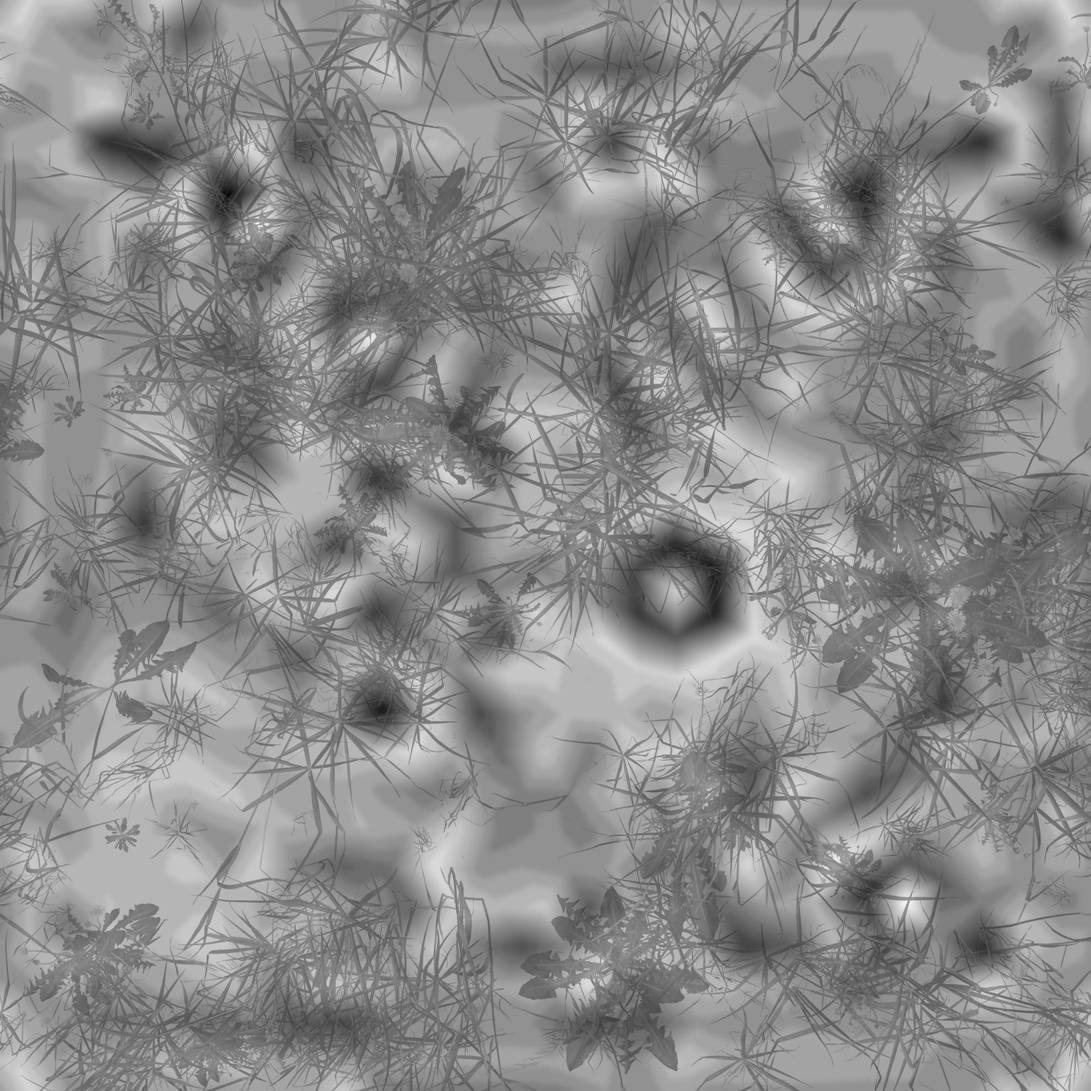landmine: (606, 523, 742, 648)
